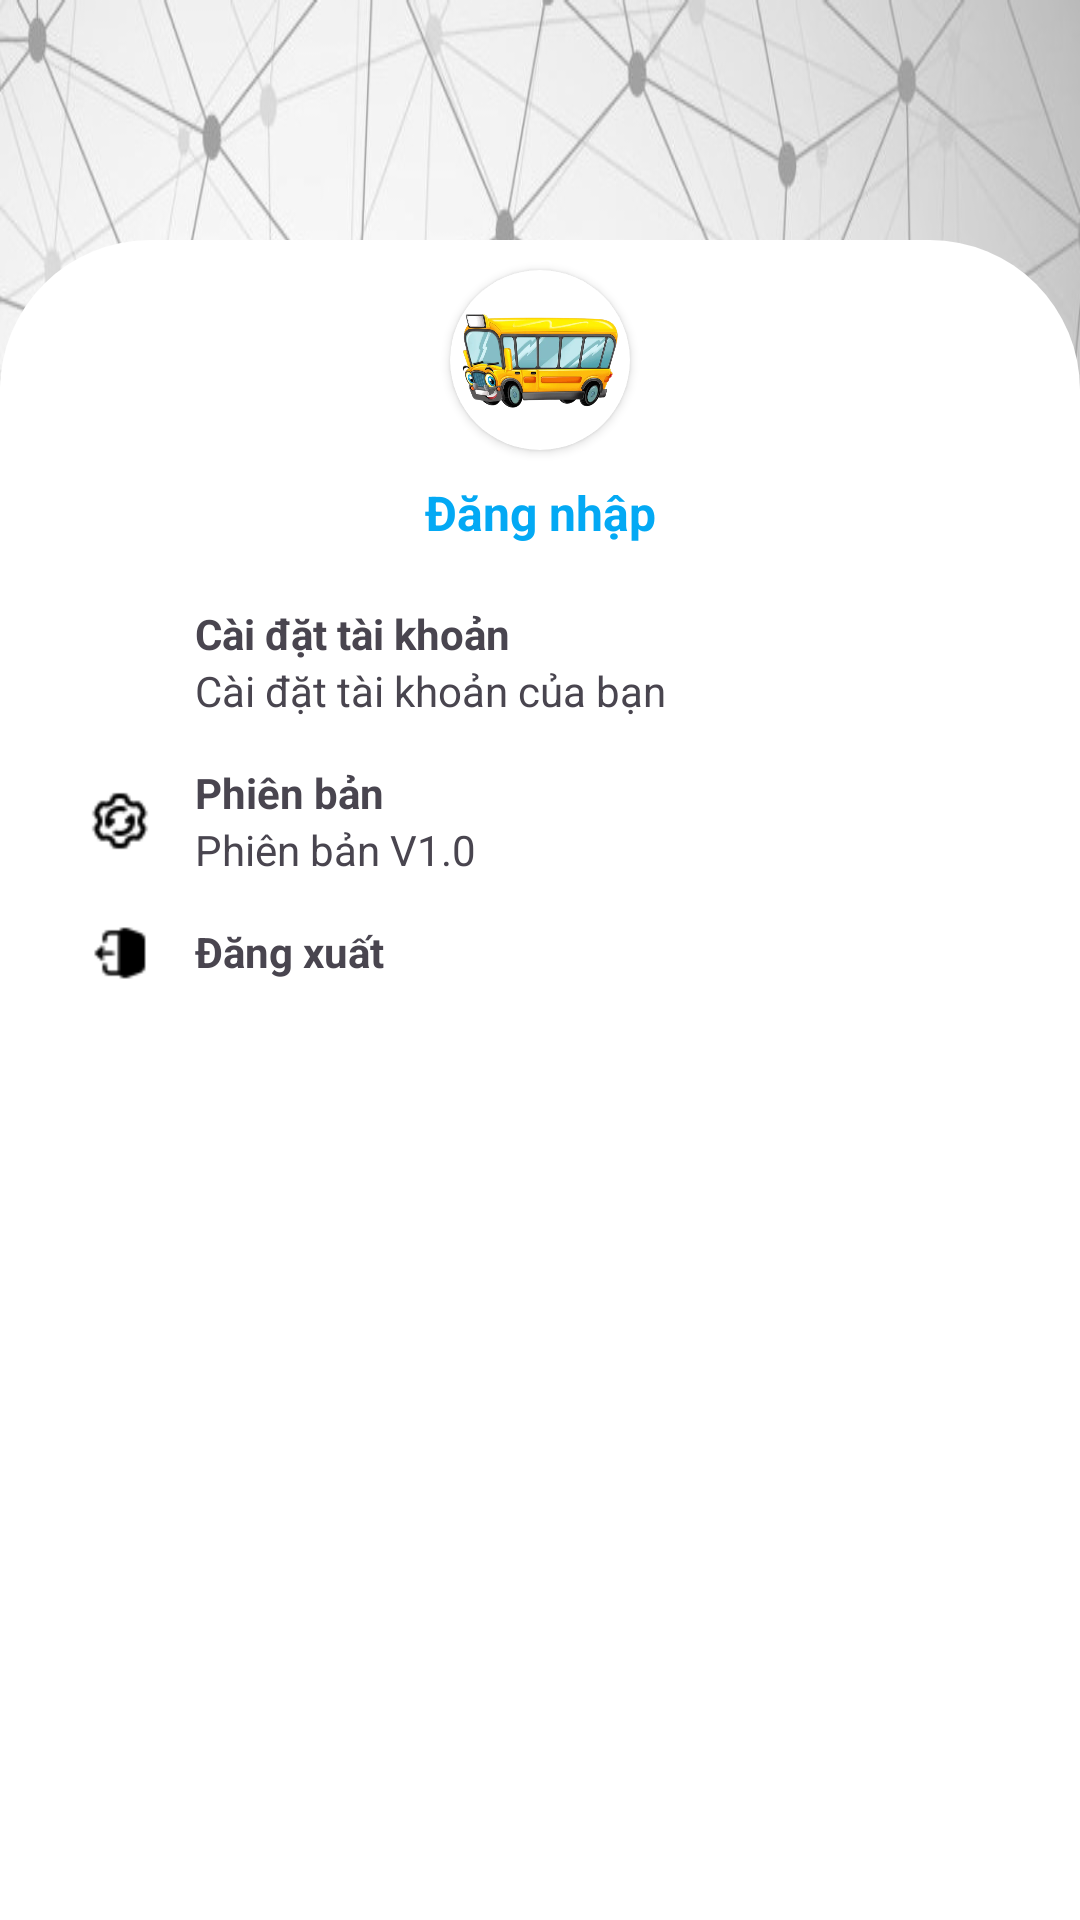

Screen size 1080px×1920px. Icon name, then its box in pixels as detection(x1, y1, x2, y2):
bus: detection(450, 314, 630, 450)
